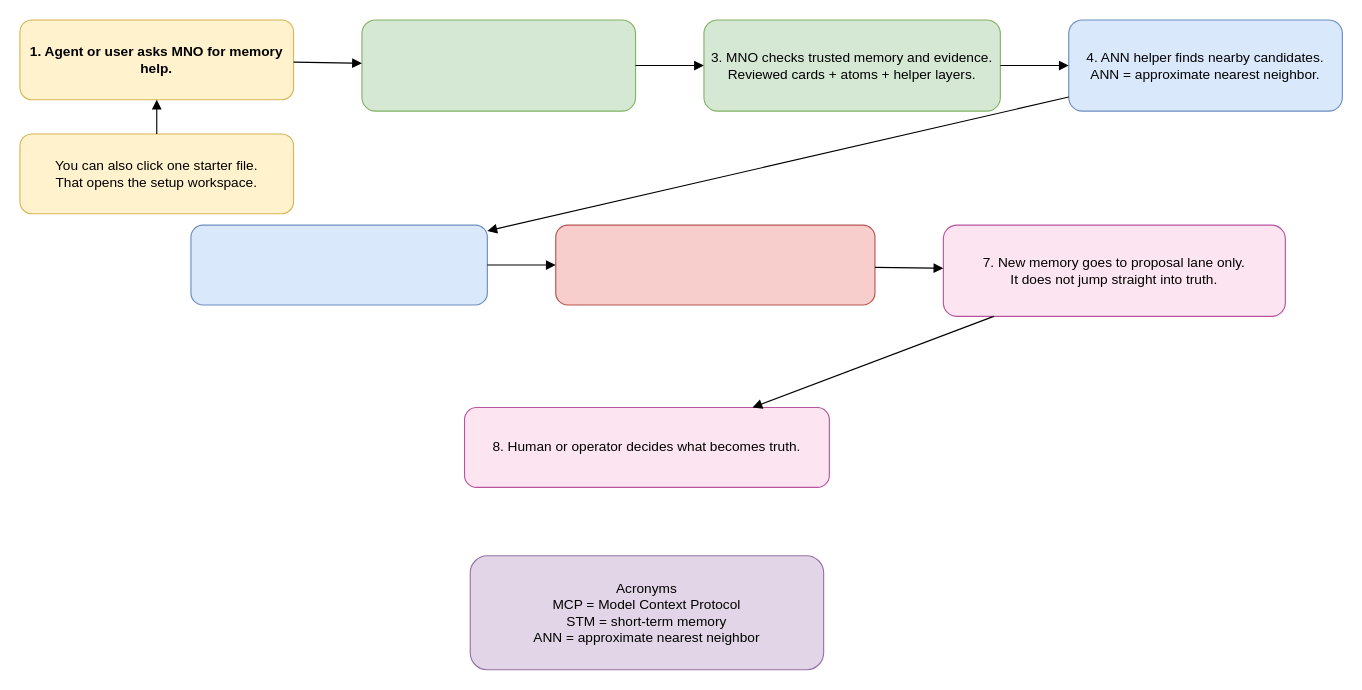
Some shapes in this 1362 by 690 pixel diagram are drawn without their labels. Each missing label, with the centre of its shape:
"2. MNO checks STM. STM = short-term memory for this session." goes at point 498,65.
"5. MNO builds a bounded evidence bundle." goes at point 338,264.
"6. Model answers, abstains, or asks for clarification." goes at point 715,264.
